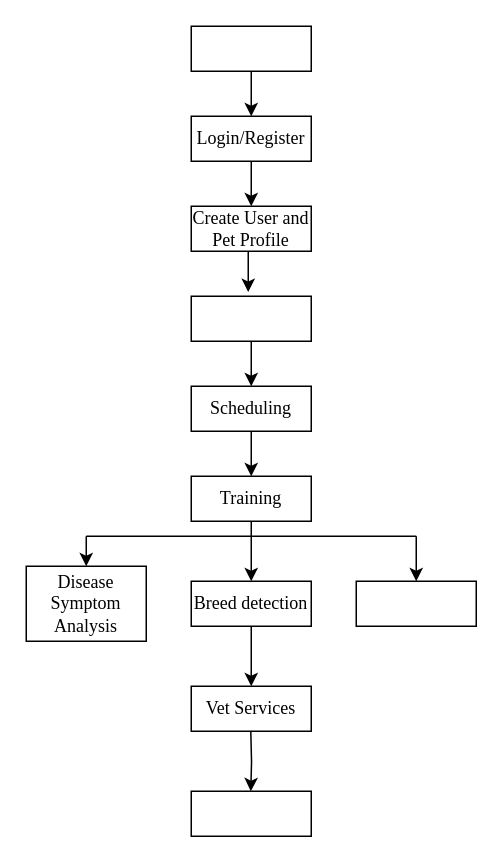
Some shapes in this 503 by 863 pixel diagram are drawn without their labels. Here are the shapes that lost their labels. From the top down, the centre of each, then its label:
At (250,48): "Hello Pet".
At (250,318): "Adoption System".
At (415,603): "Shop products".
At (250,813): "Community Pets".
